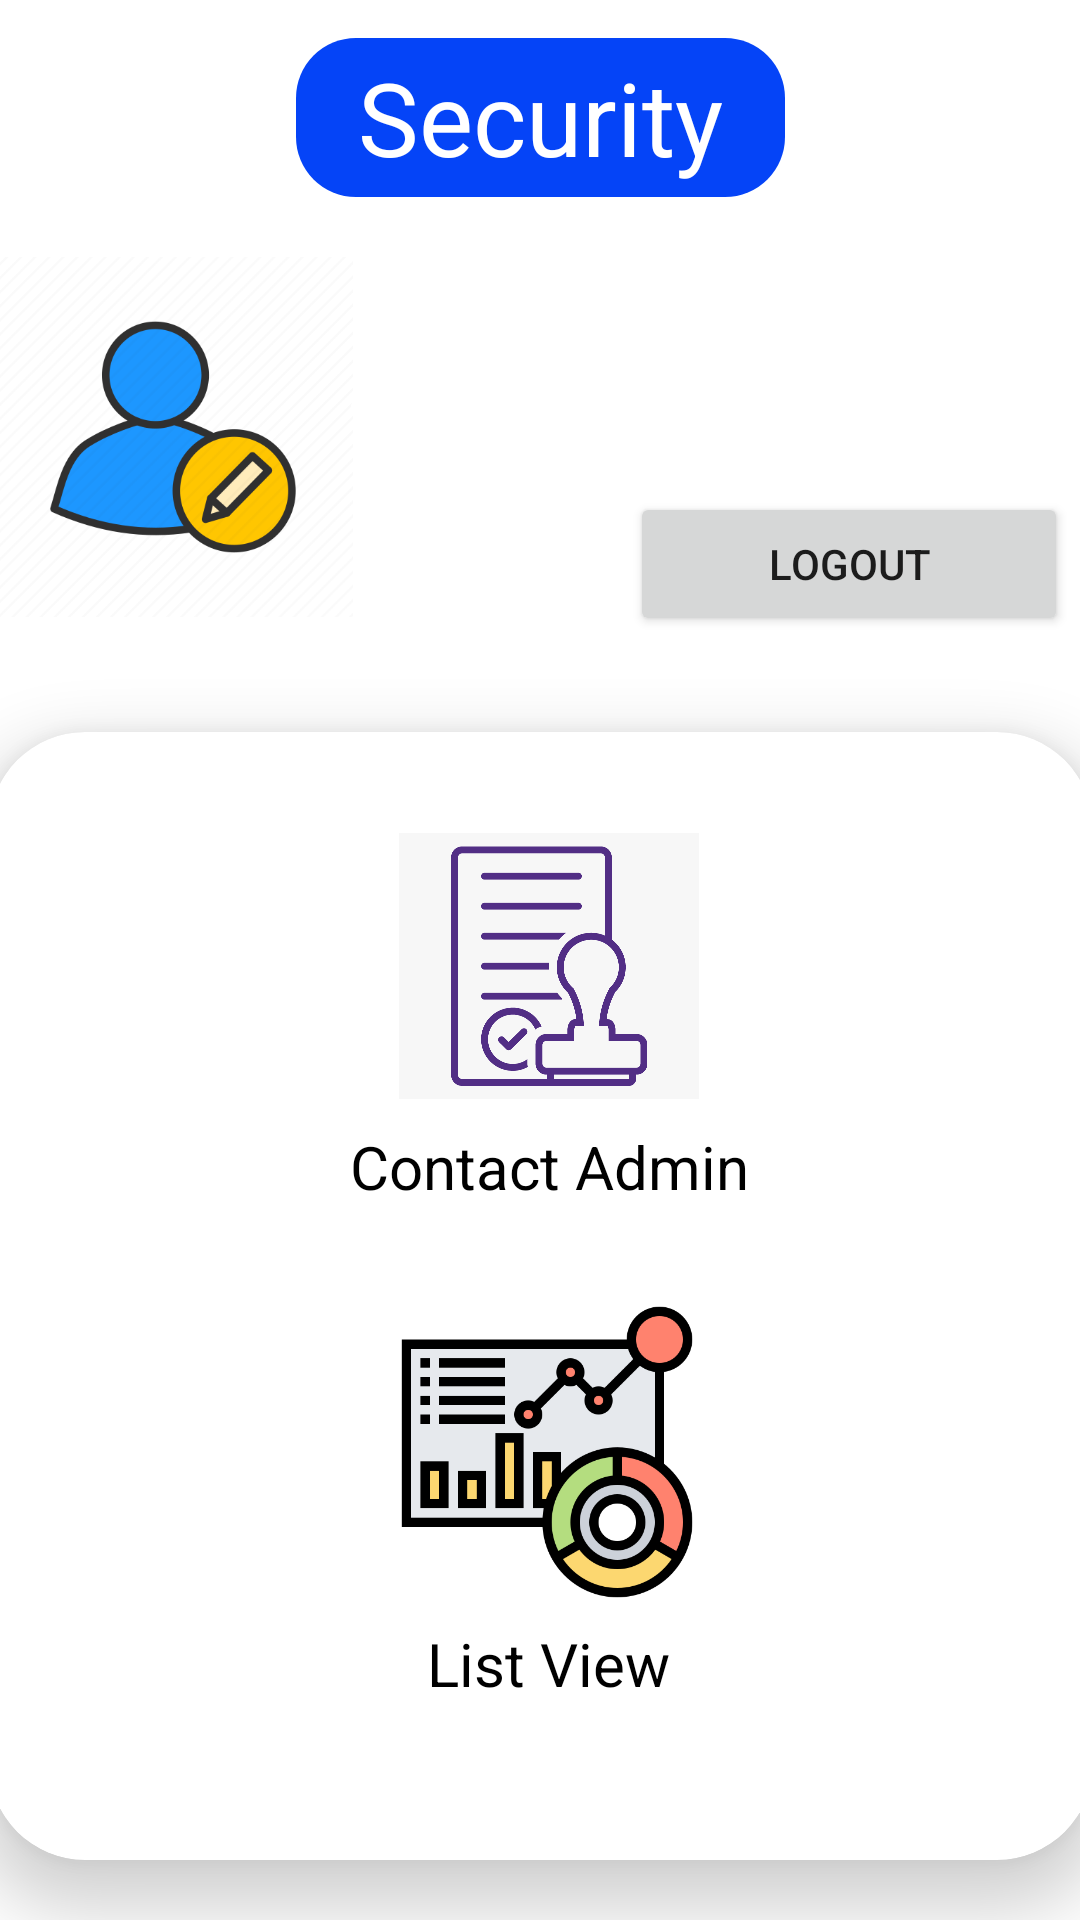

Icons on this 1080 x 1920 Android screen, each with the point to tap as [x,y]:
dash: [547,1452]
myprofile: [173,437]
